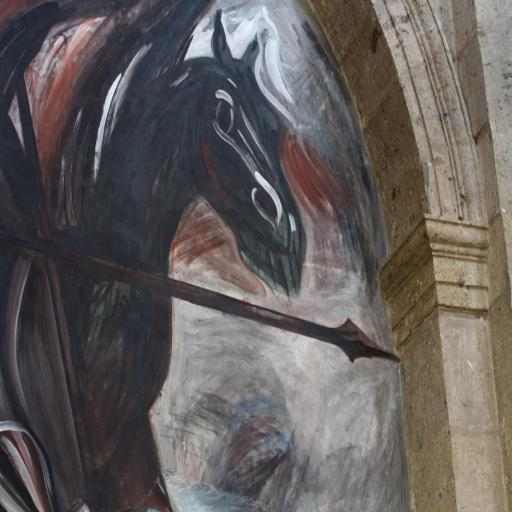horse: (0, 4, 309, 512)
